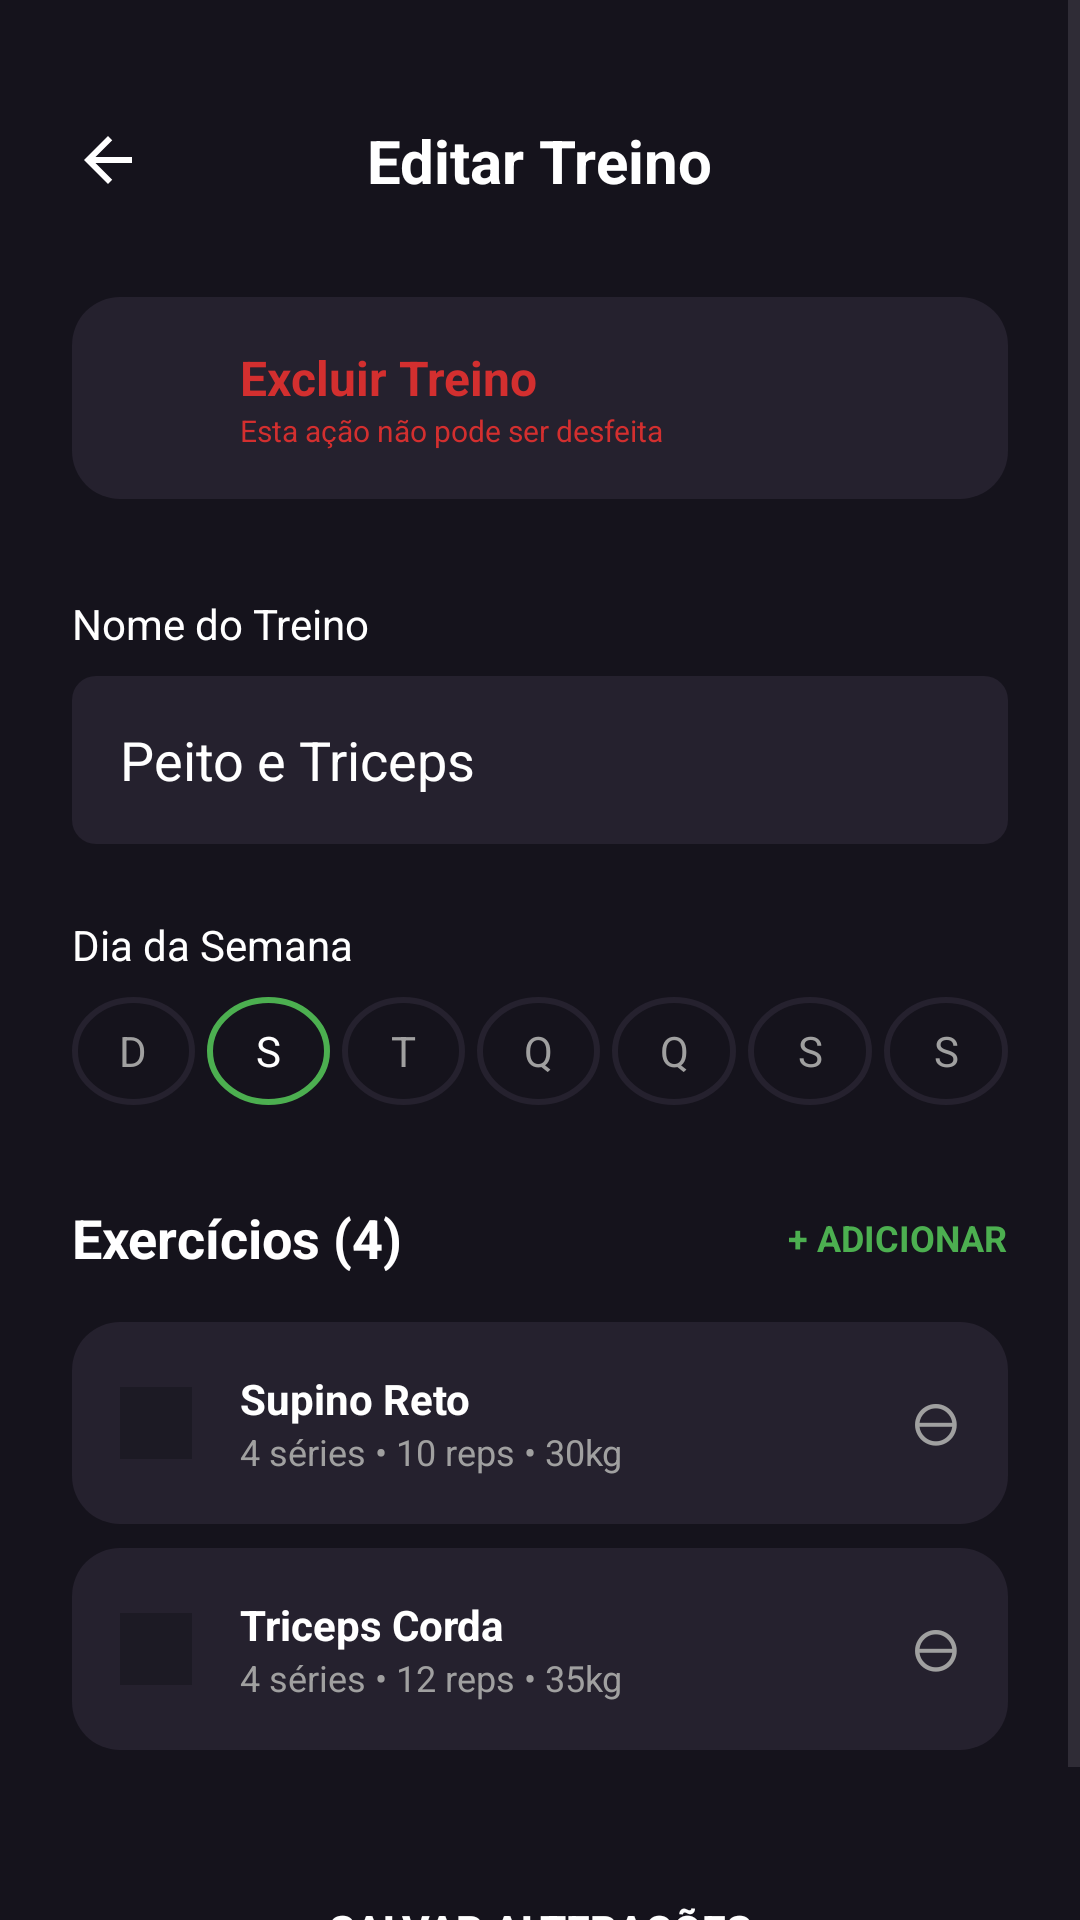

Screen size 1080 x 1920. Icon name, then its box in pixels as (x1, y1, x2, y2):
arrow back: (84, 136, 132, 184)
